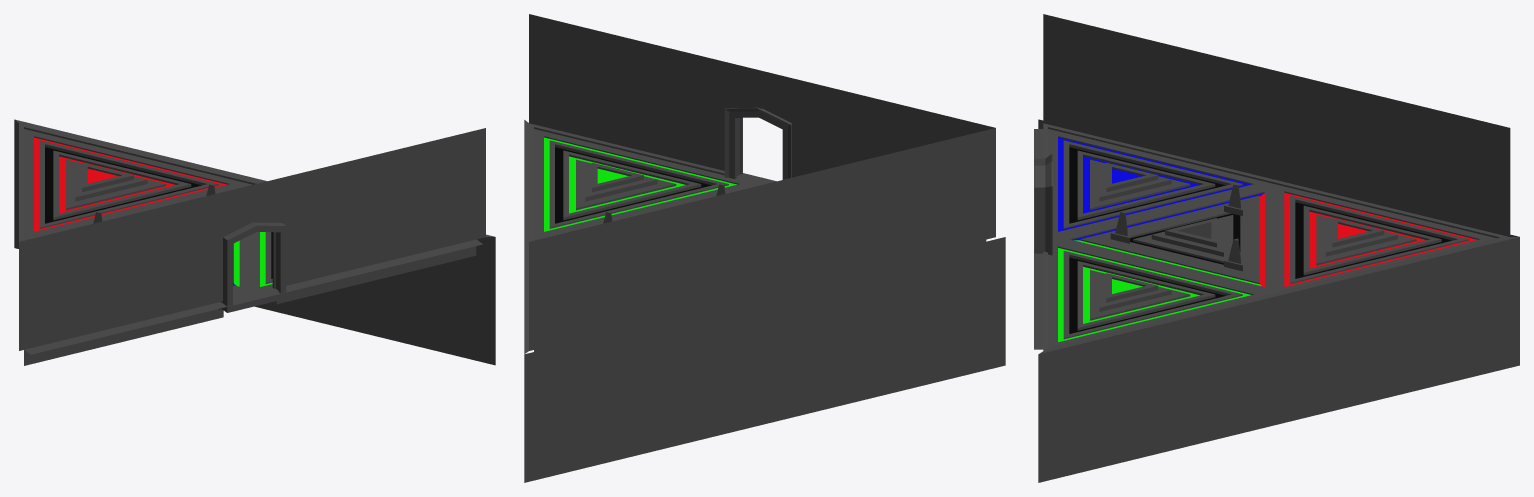
File: Lab.fbx
The picture shows the model from 3 angles, left to right: view 1: azimuth 30°, elevation 25°; view 2: azimuth 150°, elevation 25°; view 3: azimuth 270°, elevation 25°; orthographic projection.
Visible parts, largest first — view 1: Lab; view 2: Lab; view 3: Lab.
Part boxes in pixels (bbox=[...]): Lab: bbox=[14, 119, 495, 365]; Lab: bbox=[524, 14, 1005, 482]; Lab: bbox=[1034, 14, 1519, 482].
Bounding box in the file's own units: 2767 × 1305 × 2418.
